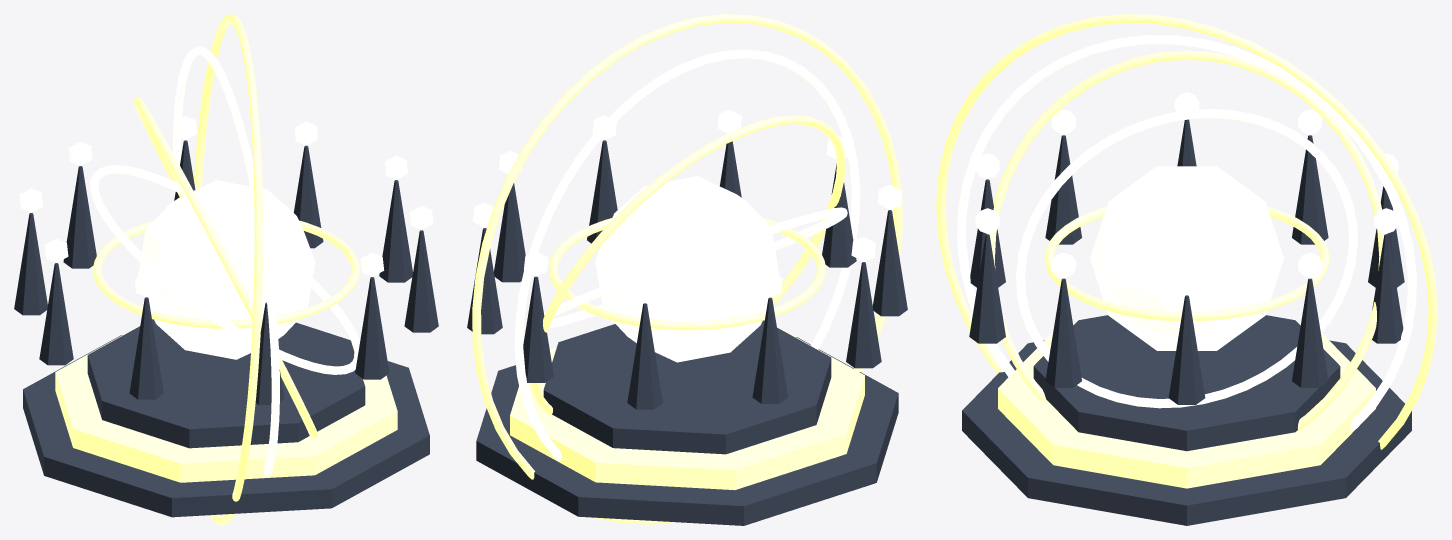
Rendered from gpu-blender-v45.glb.
3 views of the same model, side by side, from view 1: azimuth 30°, elevation 25°; view 2: azimuth 150°, elevation 25°; view 3: azimuth 270°, elevation 25° (orthographic). The views are drawn at different scales.
Parts seen in each view (by area): view 1: Cylinder.002, Cylinder, SovereignCore_regex-droid-builder, Cylinder.001, Torus.004, Torus.003, Torus.001, Torus, Torus.002, Cone.004, Cone.008, Cone.005 (+6 smaller); view 2: Cylinder.002, SovereignCore_regex-droid-builder, Cylinder, Cylinder.001, Torus.004, Torus.003, Torus.002, Torus, Torus.001, Cone.005, Cone.003, Cone.006 (+7 smaller); view 3: SovereignCore_regex-droid-builder, Cylinder.002, Cylinder, Cylinder.001, Torus.004, Torus.003, Torus.001, Torus.002, Torus, Cone, Cone.008, Cone.001 (+7 smaller).
Boxes of the visible parts, bbox=[...] form: Cylinder.002: bbox=[87, 319, 365, 448]; Cylinder: bbox=[23, 335, 429, 517]; SovereignCore_regex-droid-builder: bbox=[137, 180, 315, 359]; Cylinder.001: bbox=[55, 326, 397, 482]; Torus.004: bbox=[194, 14, 263, 525]; Torus.003: bbox=[173, 46, 279, 475]; Torus.001: bbox=[90, 165, 360, 374]; Torus: bbox=[93, 220, 359, 328]; Torus.002: bbox=[133, 97, 318, 437]; Cone.004: bbox=[14, 213, 47, 315]; Cone.008: bbox=[355, 277, 389, 379]; Cone.005: bbox=[39, 263, 73, 365]; Cylinder.002: bbox=[543, 320, 831, 454]; SovereignCore_regex-droid-builder: bbox=[595, 176, 779, 362]; Cylinder: bbox=[476, 337, 898, 525]; Cylinder.001: bbox=[510, 328, 864, 490]; Torus.004: bbox=[472, 14, 902, 524]; Torus.003: bbox=[514, 49, 860, 461]; Torus.002: bbox=[530, 115, 845, 415]; Torus: bbox=[549, 218, 825, 330]; Torus.001: bbox=[544, 207, 847, 328]; Cone.005: bbox=[846, 262, 881, 368]; Cone.003: bbox=[627, 303, 662, 409]; Cone.006: bbox=[873, 210, 907, 316]; SovereignCore_regex-droid-builder: bbox=[1090, 166, 1283, 350]; Cylinder.002: bbox=[1033, 315, 1340, 451]; Cylinder: bbox=[962, 340, 1411, 525]; Cylinder.001: bbox=[998, 332, 1375, 488]; Torus.004: bbox=[936, 14, 1437, 449]; Torus.003: bbox=[957, 35, 1416, 432]; Torus.001: bbox=[1016, 109, 1357, 408]; Torus.002: bbox=[988, 50, 1385, 431]; Torus: bbox=[1044, 206, 1329, 321]; Cone: bbox=[1168, 295, 1205, 404]; Cone.008: bbox=[969, 234, 1005, 343]; Cone.001: bbox=[1292, 278, 1328, 387].
Bounding box in the file's own units: 4.41 × 5.33 × 4.9.
